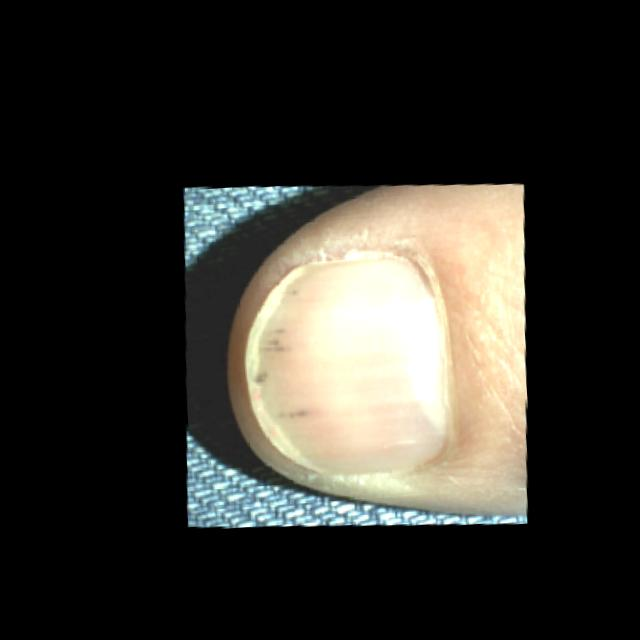Nail: (246, 254, 453, 477)
